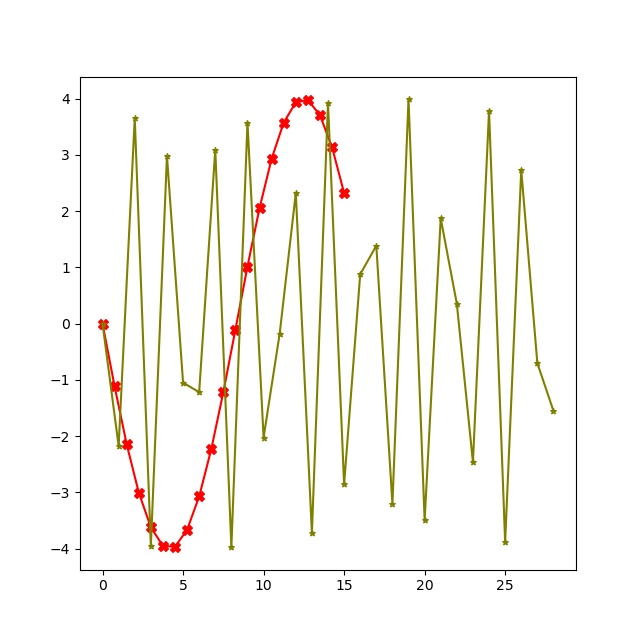Cross: (97, 318, 109, 330), (109, 381, 121, 393), (121, 439, 133, 451), (133, 487, 145, 499), (145, 522, 157, 534), (157, 540, 169, 552), (170, 541, 182, 553), (182, 524, 194, 536), (194, 491, 206, 503), (206, 444, 218, 456), (218, 387, 230, 399), (230, 324, 242, 336), (242, 261, 254, 273), (254, 203, 266, 215), (266, 153, 278, 165), (278, 117, 290, 129), (290, 97, 302, 109), (302, 94, 314, 106), (314, 110, 326, 122), (327, 142, 339, 154), (339, 188, 351, 200)
star: (99, 320, 108, 329), (115, 442, 124, 451), (131, 114, 140, 123), (147, 542, 156, 551), (163, 152, 172, 161), (179, 379, 188, 388), (195, 388, 204, 397), (211, 146, 220, 155), (227, 543, 236, 552), (243, 119, 252, 128), (260, 434, 269, 443), (276, 330, 285, 339), (292, 189, 301, 198), (308, 529, 317, 538), (324, 99, 333, 108), (340, 480, 349, 489), (356, 270, 365, 279), (372, 242, 381, 251), (388, 500, 397, 509), (405, 95, 414, 104), (421, 516, 430, 525), (437, 214, 446, 223), (453, 300, 462, 309), (469, 458, 478, 467), (485, 107, 494, 116), (501, 538, 510, 547), (517, 166, 526, 175), (533, 359, 542, 368), (549, 407, 558, 416)
